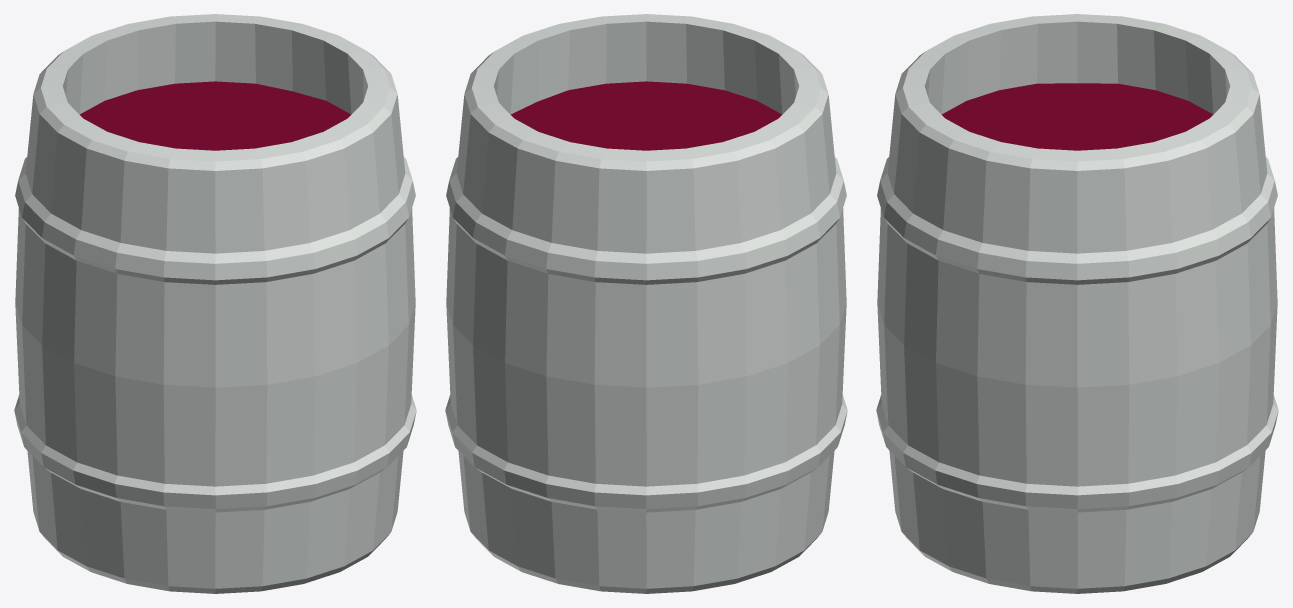
The picture shows the model from 3 angles, left to right: view 1: azimuth 30°, elevation 25°; view 2: azimuth 150°, elevation 25°; view 3: azimuth 270°, elevation 25°; orthographic projection.
Visible parts, largest first — view 1: G:\FFXIV-MapTools\exports\y6f3\bg\ex5\02_ykt_y6\fld\y6f3\bgp (×2); view 2: G:\FFXIV-MapTools\exports\y6f3\bg\ex5\02_ykt_y6\fld\y6f3\bgp (×2); view 3: G:\FFXIV-MapTools\exports\y6f3\bg\ex5\02_ykt_y6\fld\y6f3\bgp (×2).
Boxes of the visible parts, box(x1,y1,x2,y2) form: G:\FFXIV-MapTools\exports\y6f3\bg\ex5\02_ykt_y6\fld\y6f3\bgp (×2): box(14, 14, 416, 593); G:\FFXIV-MapTools\exports\y6f3\bg\ex5\02_ykt_y6\fld\y6f3\bgp (×2): box(445, 14, 847, 593); G:\FFXIV-MapTools\exports\y6f3\bg\ex5\02_ykt_y6\fld\y6f3\bgp (×2): box(876, 14, 1278, 593).
Size of the model in its own units: 0.1643 by 0.1952 by 0.1643.
